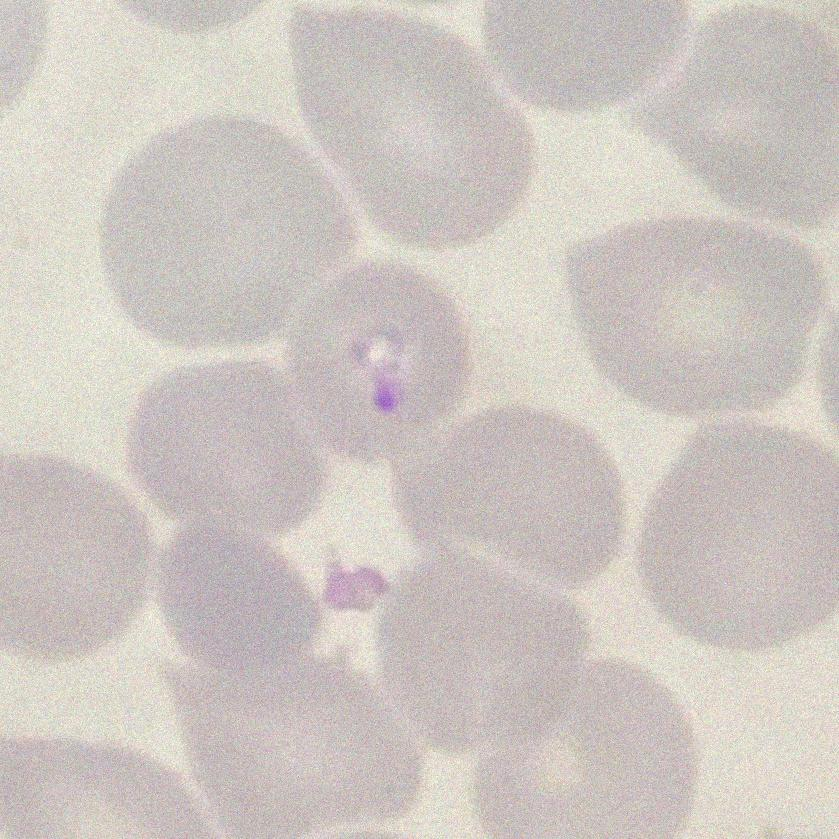Infected: (290, 259, 475, 465)
Uninfected: (105, 109, 362, 352), (285, 5, 535, 246), (562, 214, 817, 420), (152, 647, 422, 831), (645, 427, 839, 655), (380, 547, 590, 752), (650, 0, 839, 218), (473, 657, 695, 839), (412, 405, 626, 589), (0, 440, 151, 660), (132, 364, 318, 536), (155, 517, 322, 659), (480, 0, 685, 106)
